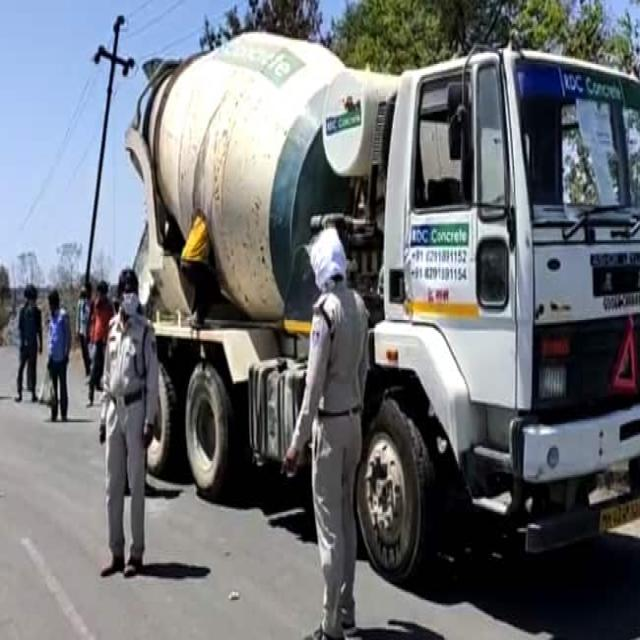truck: (126, 32, 640, 582)
